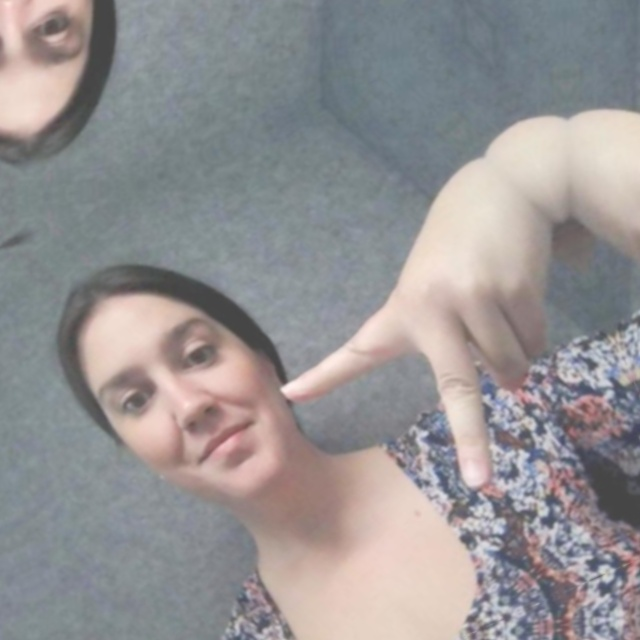Scissors: (521, 0, 640, 429)
